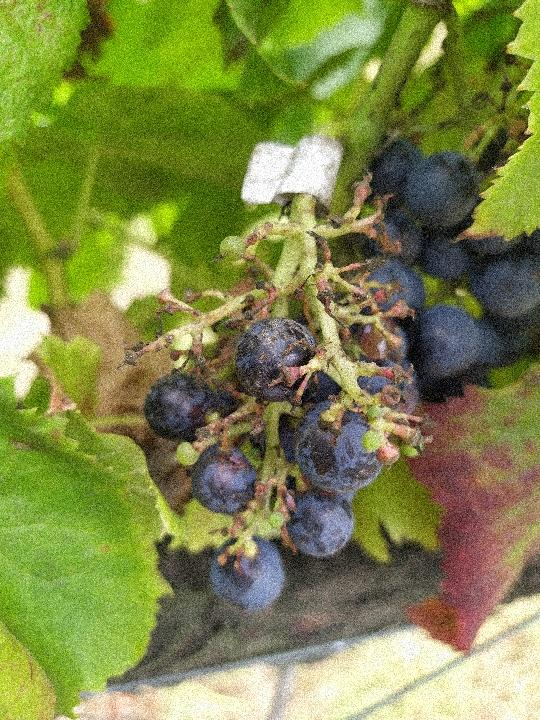grape: (113, 167, 443, 615)
